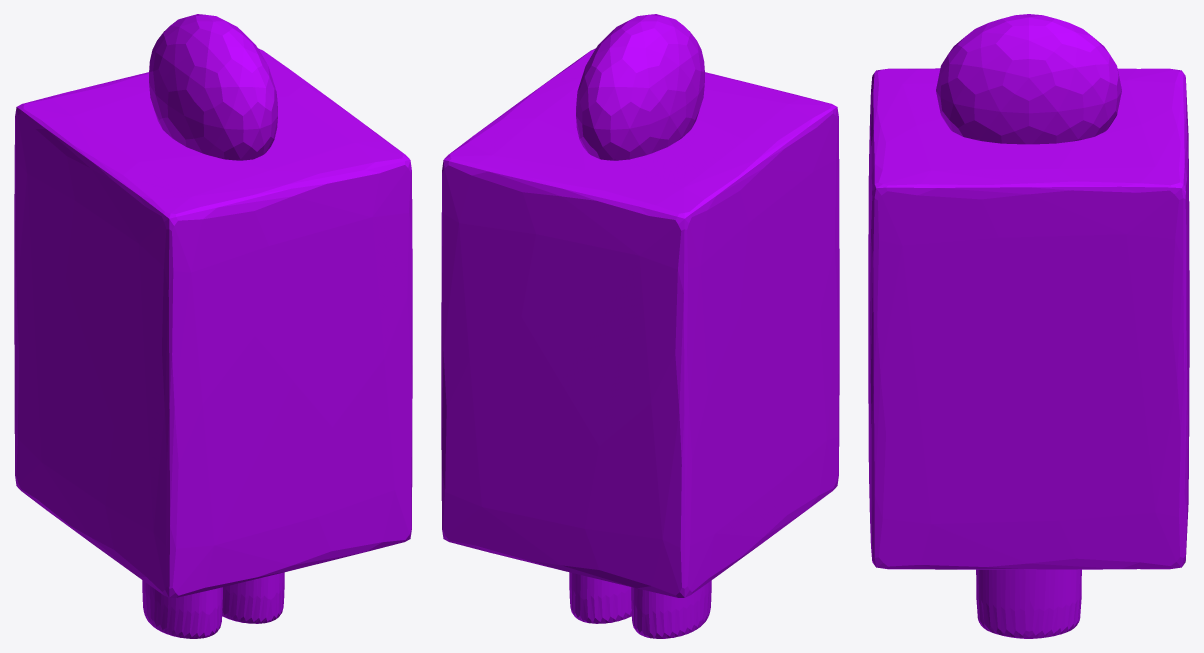
File: hero8.glb
3 views of the same model, side by side, from view 1: azimuth 30°, elevation 25°; view 2: azimuth 150°, elevation 25°; view 3: azimuth 270°, elevation 25° (orthographic).
Parts seen in each view (by area): view 1: hero8; view 2: hero8; view 3: hero8.
Boxes of the visible parts, box(x1,y1,x2,y2) form: hero8: box(14, 14, 412, 638); hero8: box(441, 14, 839, 638); hero8: box(868, 14, 1189, 638).
Bounding box in the file's own units: 0.7995 × 1.84 × 0.8989.
